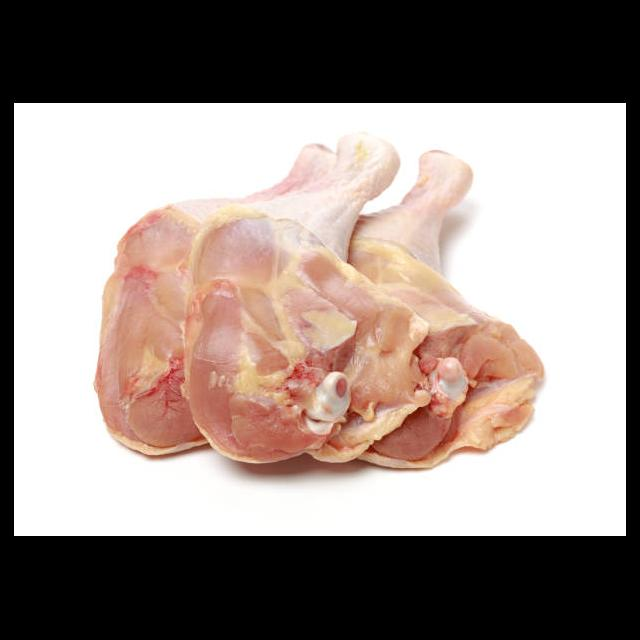chicken: (93, 130, 546, 472)
